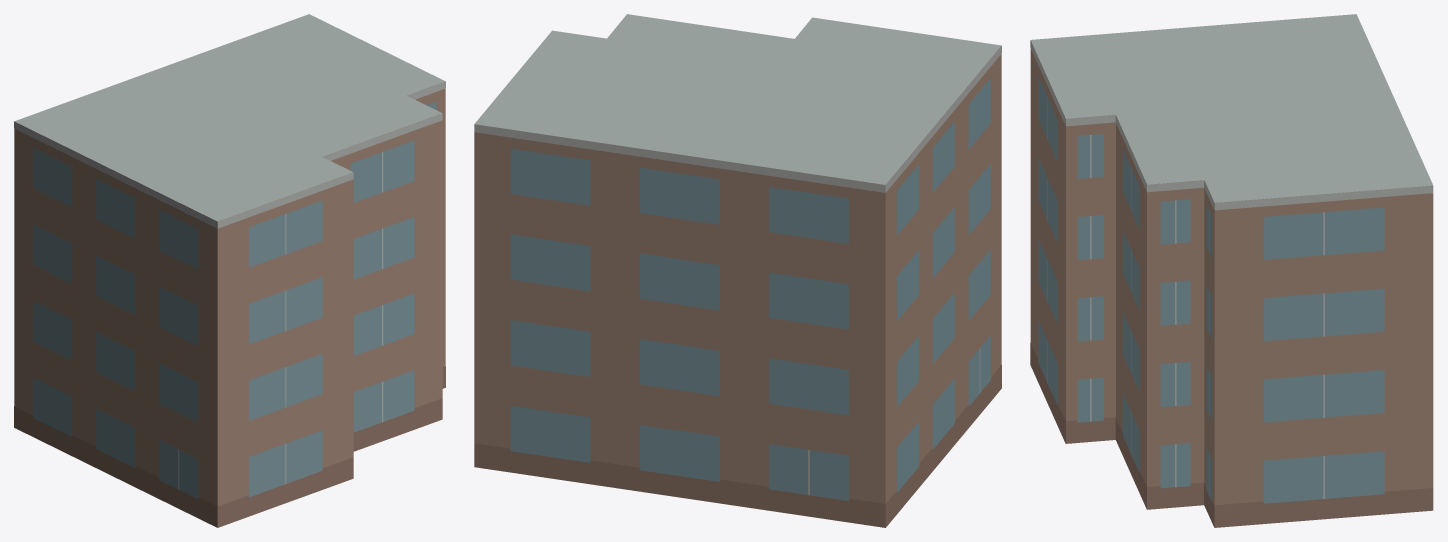
Rendered from survey-upis-32813580.glb.
3 renders of one model, left to right at view 1: azimuth 30°, elevation 25°; view 2: azimuth 150°, elevation 25°; view 3: azimuth 270°, elevation 25°, orthographic. The views are drawn at different scales.
Parts seen in each view (by area): view 1: survey-upis-32813580.tmp; view 2: survey-upis-32813580.tmp; view 3: survey-upis-32813580.tmp.
Part boxes in pixels (<box>): survey-upis-32813580.tmp: <box>14,14,445,527</box>; survey-upis-32813580.tmp: <box>474,14,1001,527</box>; survey-upis-32813580.tmp: <box>1030,14,1433,527</box>.
Size of the model in its own units: 13.1 by 10.5 by 11.81.
